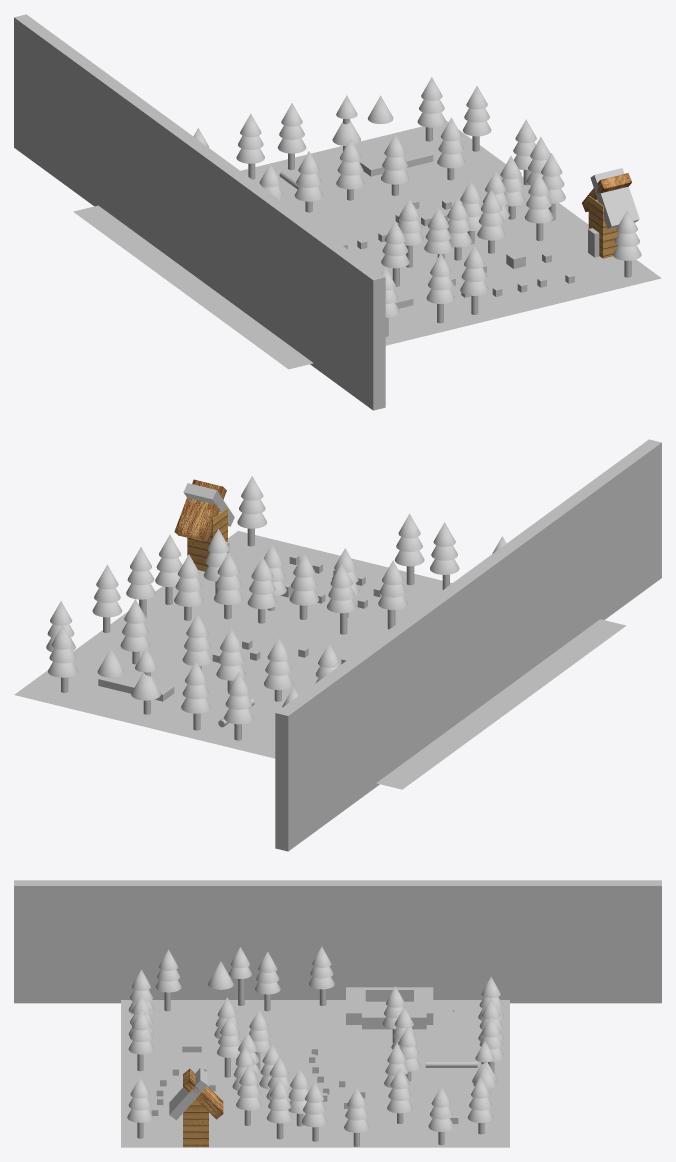
File: 3d platformer fbx final.fbx
3 renders of one model, top to bottom at view 1: azimuth 30°, elevation 25°; view 2: azimuth 150°, elevation 25°; view 3: azimuth 270°, elevation 25°, orthographic. The views are drawn at different scales.
Visible parts, largest first — view 1: Cube__16_, Plane, Cube, Cube1, Cube__10_, Cube2; view 2: Cube__16_, Plane, Cube2, Cube1, Cube__10_, Cube; view 3: Cube__16_, Plane, Cube1, Cube, Cube2, Cube__14_, Cube__12_, Cube__9_, Cube__13_, Cube__11_, pCone74.
Part boxes in pixels (left/top/right/bottom): Cube__16_: left=14, top=14, right=385, bottom=410; Plane: left=73, top=120, right=661, bottom=369; Cube: left=590, top=168, right=639, bottom=228; Cube1: left=588, top=196, right=618, bottom=258; Cube__10_: left=360, top=147, right=433, bottom=176; Cube2: left=582, top=173, right=631, bottom=211; Cube__16_: left=275, top=439, right=661, bottom=851; Plane: left=14, top=531, right=626, bottom=789; Cube2: left=174, top=479, right=226, bottom=542; Cube1: left=187, top=508, right=227, bottom=571; Cube__10_: left=98, top=674, right=174, bottom=701; Cube: left=183, top=483, right=234, bottom=526; Cube__16_: left=14, top=880, right=661, bottom=1003; Plane: left=121, top=1000, right=509, bottom=1147; Cube1: left=183, top=1099, right=208, bottom=1147; Cube: left=169, top=1068, right=207, bottom=1120; Cube2: left=183, top=1069, right=223, bottom=1119; Cube__14_: left=362, top=1009, right=426, bottom=1029; Cube__12_: left=346, top=987, right=365, bottom=1024; Cube__9_: left=182, top=1019, right=201, bottom=1052; Cube__13_: left=362, top=987, right=426, bottom=1001; Cube__11_: left=414, top=987, right=433, bottom=1024; pCone74: left=208, top=961, right=233, bottom=989.
Size of the model in its own units: 30596 by 10000 by 50000.
